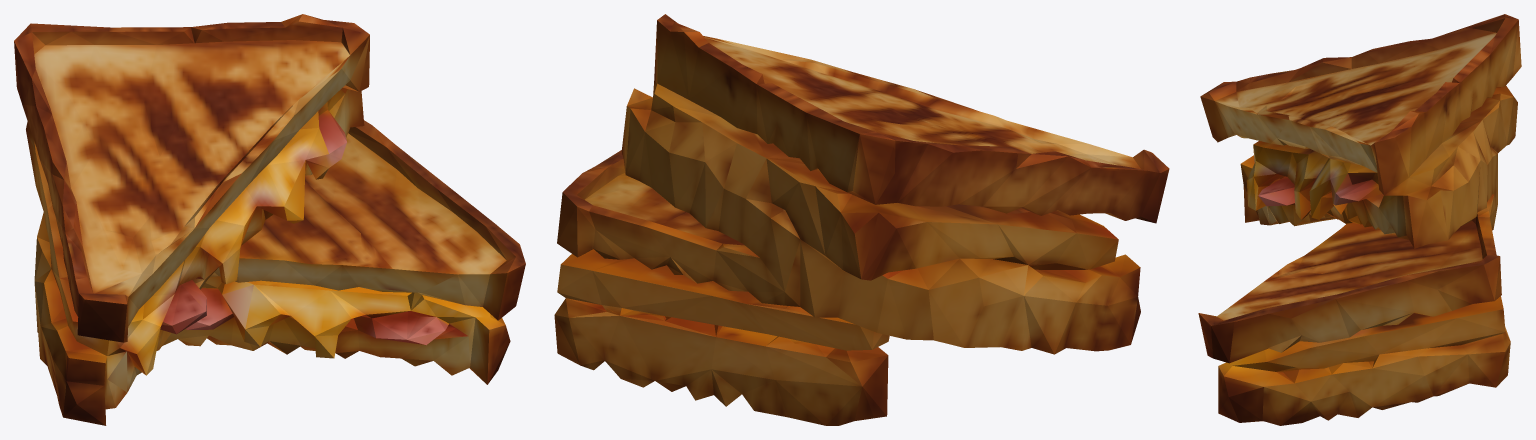
File: toastie.glb
3 views of the same model, side by side, from view 1: azimuth 30°, elevation 25°; view 2: azimuth 150°, elevation 25°; view 3: azimuth 270°, elevation 25° (orthographic). The views are drawn at different scales.
Parts seen in each view (by area): view 1: geometry_0.003; view 2: geometry_0.003; view 3: geometry_0.003.
Boxes of the visible parts, x1,y1,x2,y2 form: geometry_0.003: [14, 14, 525, 425]; geometry_0.003: [554, 14, 1169, 425]; geometry_0.003: [1198, 14, 1521, 425].
Bounding box in the file's own units: 0.1994 × 0.1326 × 0.1435.
1 material, 1 textured.
